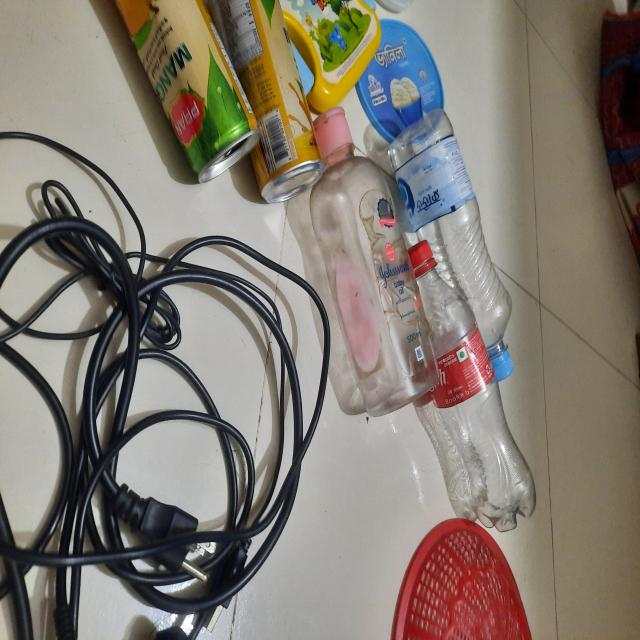Cable: (0, 141, 315, 640)
Plastics: (318, 0, 548, 528), (388, 531, 528, 640)
can: (118, 0, 316, 182)
